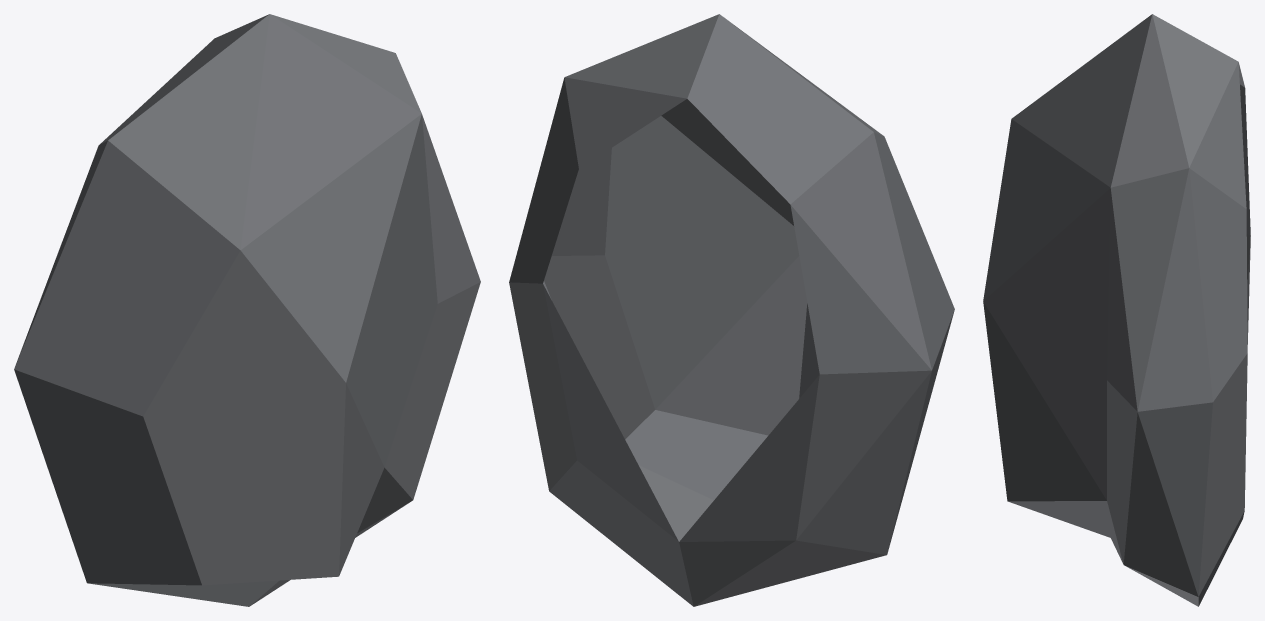
File: Rock_1.fbx
3 views of the same model, side by side, from view 1: azimuth 30°, elevation 25°; view 2: azimuth 150°, elevation 25°; view 3: azimuth 270°, elevation 25° (orthographic). The views are drawn at different scales.
Visible parts, largest first — view 1: Rock_1; view 2: Rock_1; view 3: Rock_1.
Part boxes in pixels (box(x1,y1,x2,y2)): Rock_1: box(14, 14, 480, 606); Rock_1: box(509, 14, 954, 606); Rock_1: box(983, 14, 1250, 606).
Bounding box in the file's own units: 404 × 532 × 218.
